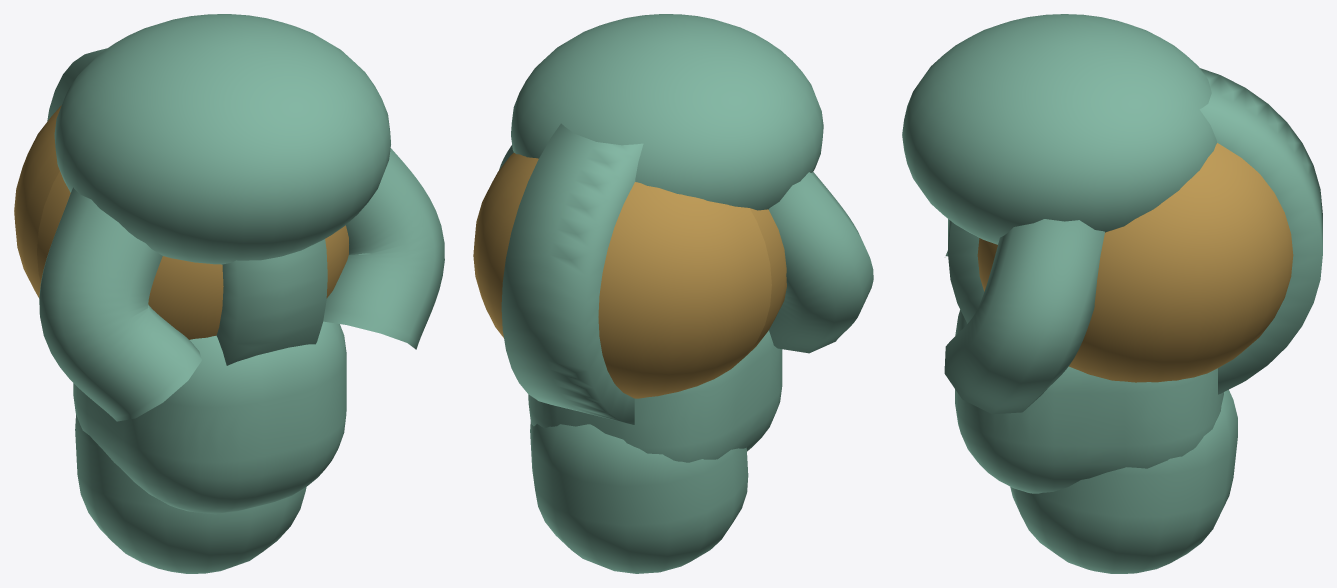
File: deadeye-arm-1.glb
3 renders of one model, left to right at view 1: azimuth 30°, elevation 25°; view 2: azimuth 150°, elevation 25°; view 3: azimuth 270°, elevation 25°, orthographic. The views are drawn at different scales.
Parts seen in each view (by area): view 1: hand_clay, lower_clay, upper_clay, upper_hardware; view 2: hand_clay, upper_clay, upper_hardware, lower_clay; view 3: hand_clay, upper_clay, upper_hardware, lower_clay.
Part boxes in pixels (x1=…): hand_clay: x1=39, y1=14, x2=444, y2=421; lower_clay: x1=73, y1=321, x2=346, y2=514; upper_clay: x1=47, y1=48, x2=327, y2=573; upper_hardware: x1=14, y1=105, x2=348, y2=339; hand_clay: x1=499, y1=14, x2=873, y2=353; upper_clay: x1=501, y1=123, x2=748, y2=573; upper_hardware: x1=473, y1=153, x2=786, y2=398; lower_clay: x1=528, y1=330, x2=782, y2=462; hand_clay: x1=902, y1=14, x2=1216, y2=414; upper_clay: x1=948, y1=68, x2=1322, y2=573; upper_hardware: x1=977, y1=143, x2=1293, y2=382; lower_clay: x1=955, y1=310, x2=1223, y2=493.
Bounding box in the file's own units: 0.5759 × 0.7736 × 0.5593.
